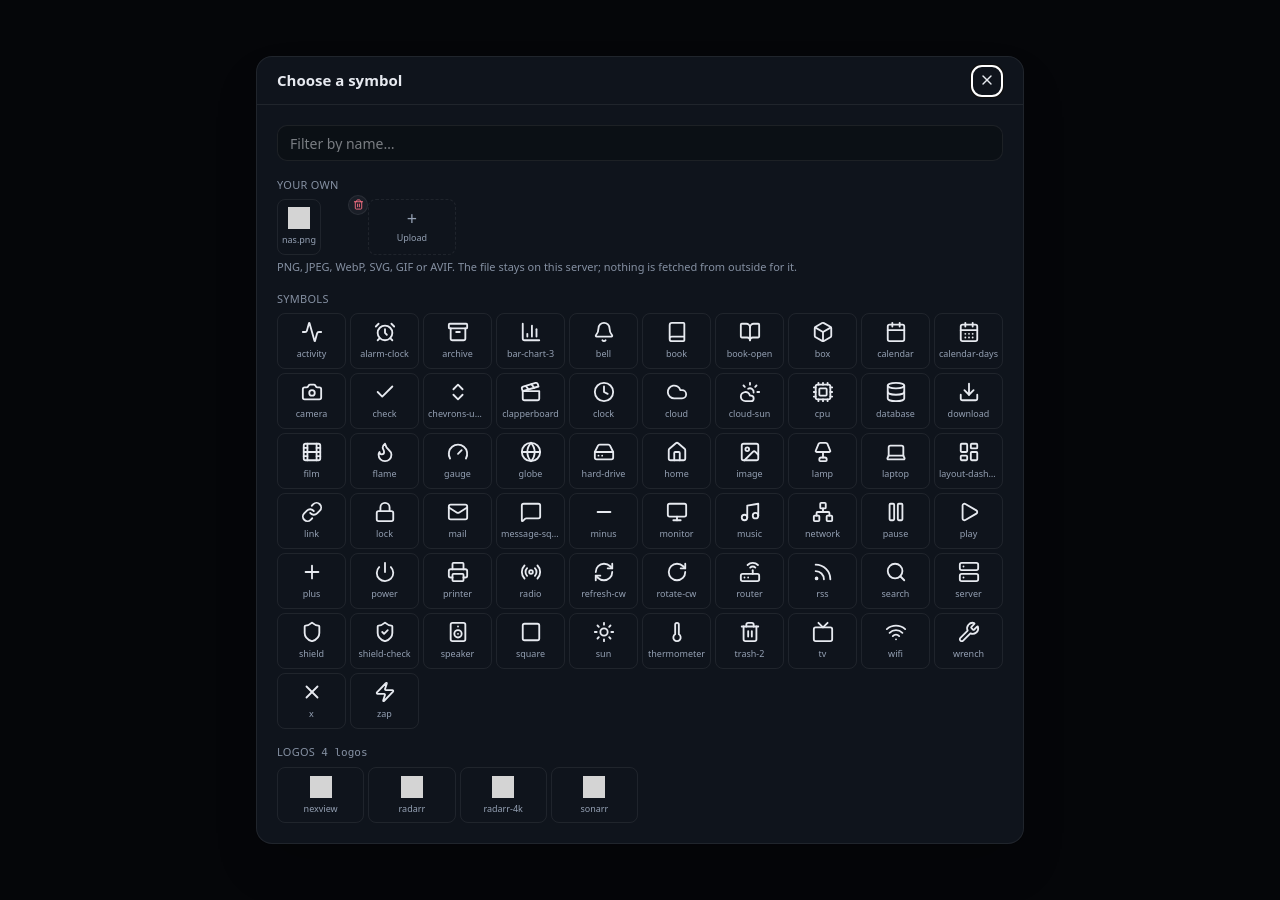
Test: IconPickerDialog › says so when nothing matches
Expected: the button "radarr" is shown, [368,767,456,823]
# By its name, not by its example: a placeholder is not a name, and some screen readers skip it.
Type "zzqq" into the field labelled "Filter by name…".
click(640, 143); type("zzqq")  # box [277,125,1003,161]
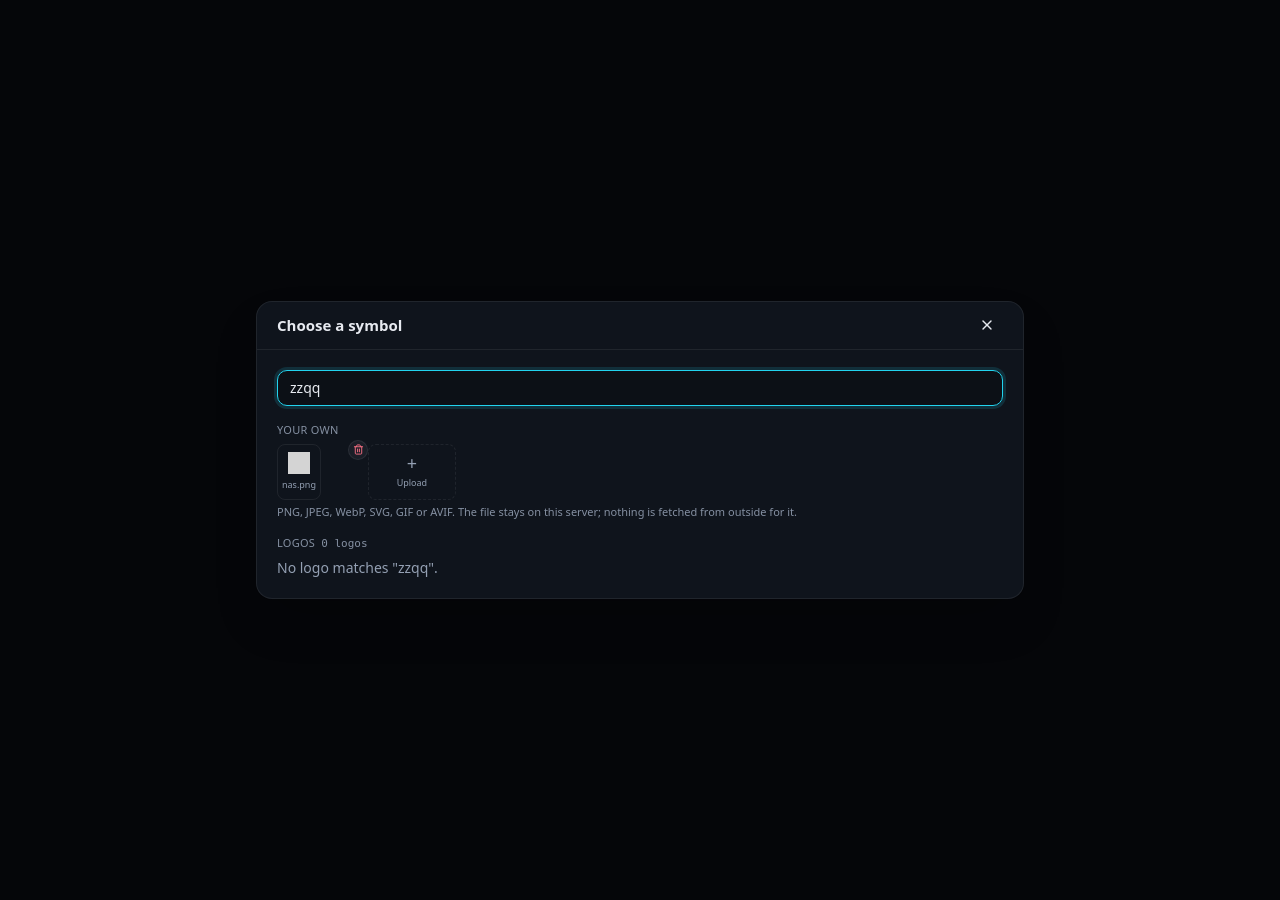
Now the message reads "No logo matches \"zzqq\".", box [277,558,438,577]
